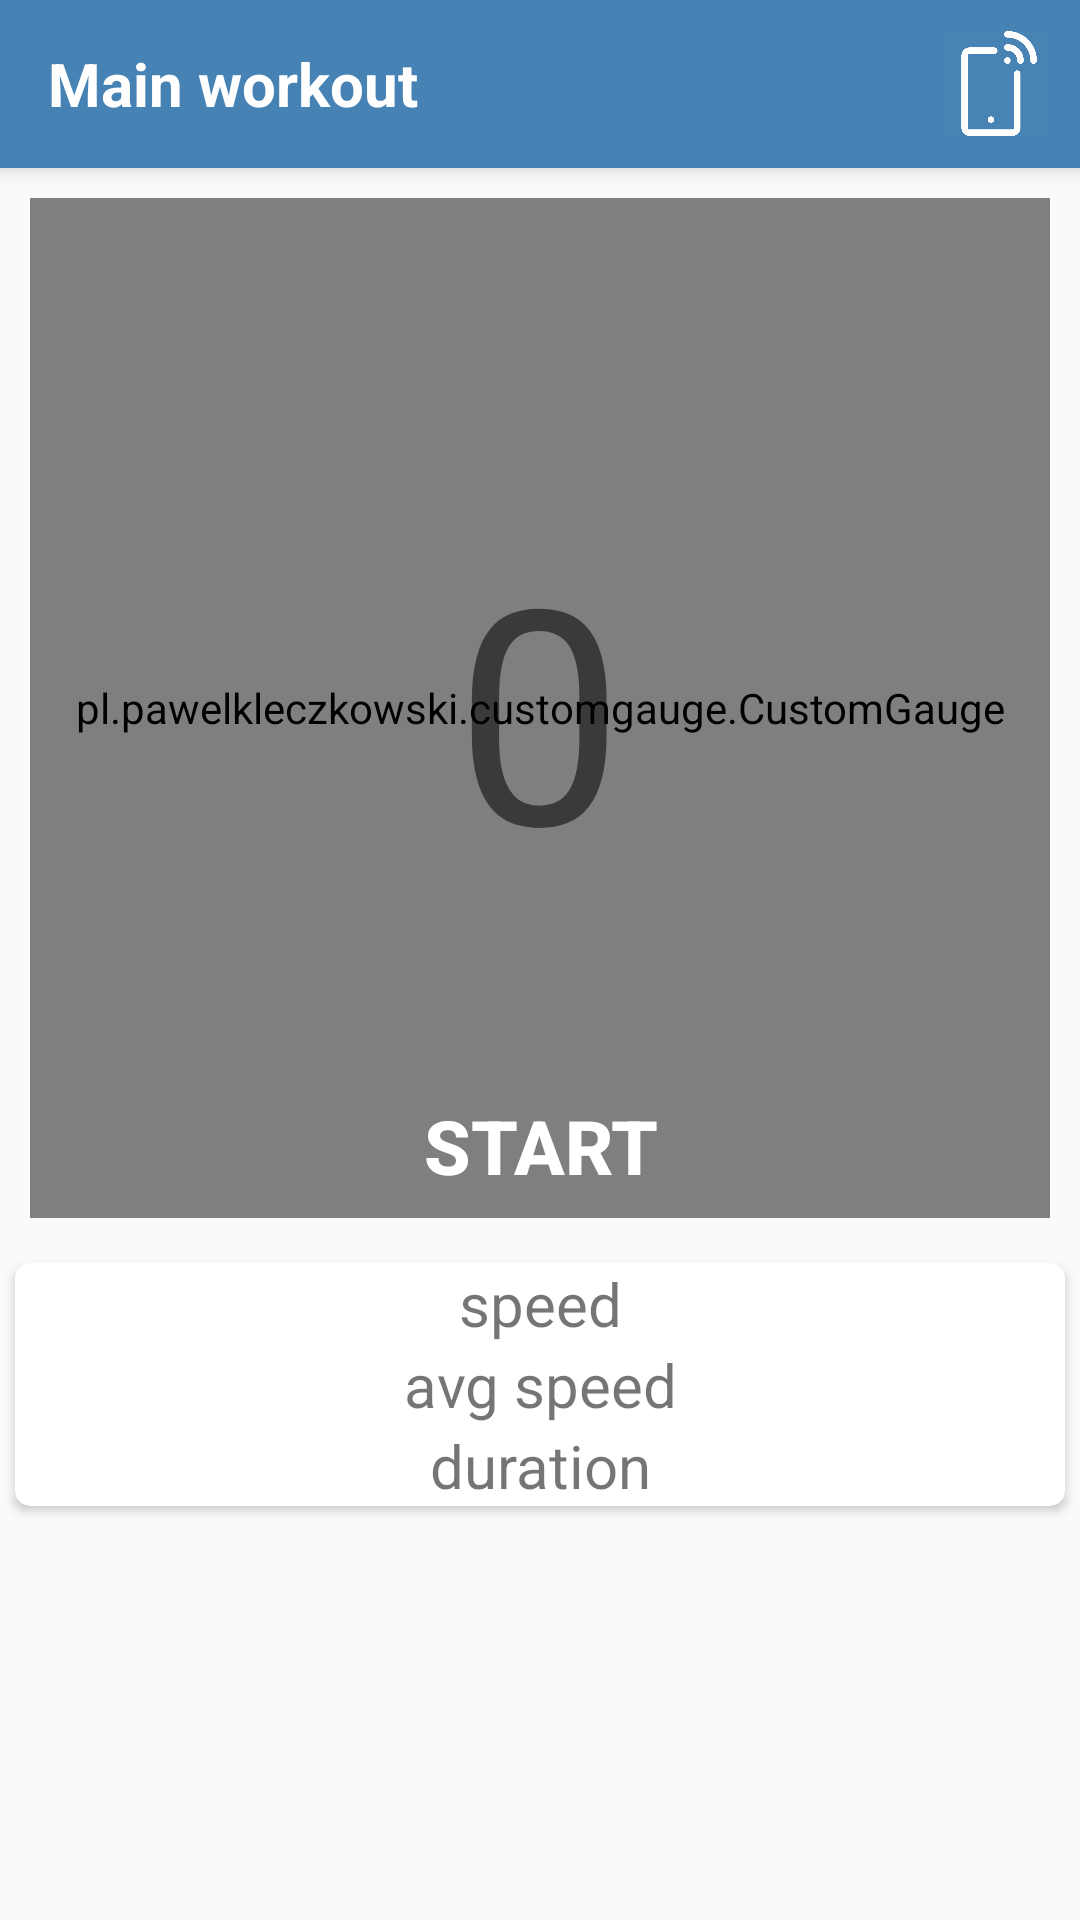

Icons on this 1080×1920 Android screen, each with its box as (x1, y1, x2, y2):
connect: (961, 31, 1037, 136)
